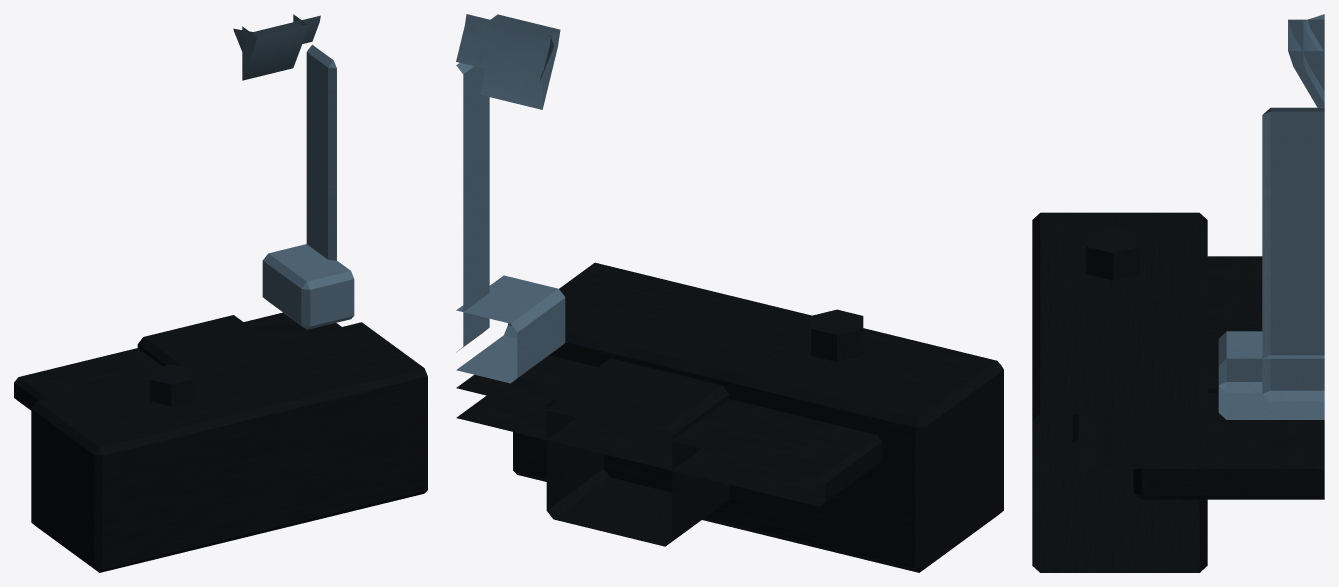
The model's file is cell_14.obj.
3 renders of one model, left to right at view 1: azimuth 30°, elevation 25°; view 2: azimuth 150°, elevation 25°; view 3: azimuth 270°, elevation 25°, orthographic. The views are drawn at different scales.
Parts seen in each view (by area): view 1: cell_14; view 2: cell_14; view 3: cell_14.
Part boxes in pixels (x1,y1,x2,y2): cell_14: (14,14,427,572); cell_14: (456,14,1003,572); cell_14: (1032,14,1324,572).
Size of the model in its own units: 0.86 by 1 by 0.52.
